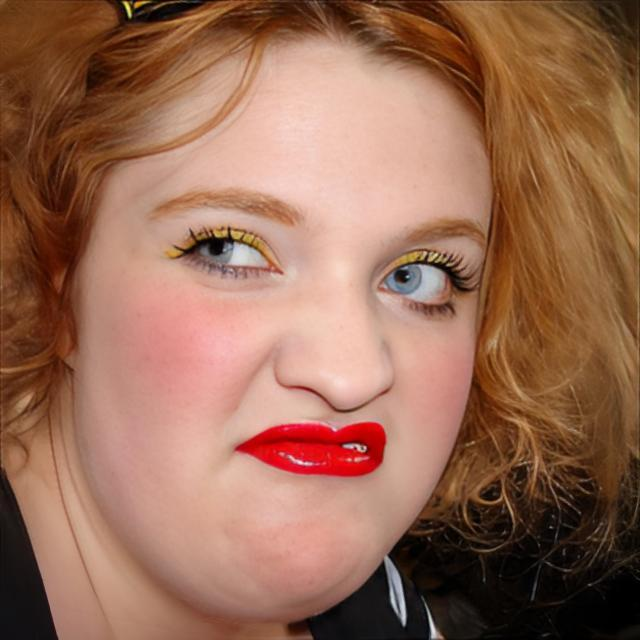disgust: (74, 29, 495, 626)
